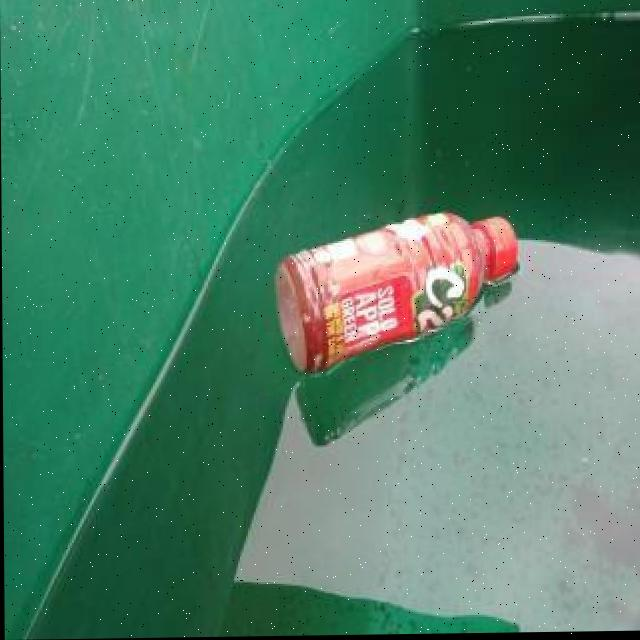bottle: (275, 209, 518, 378)
